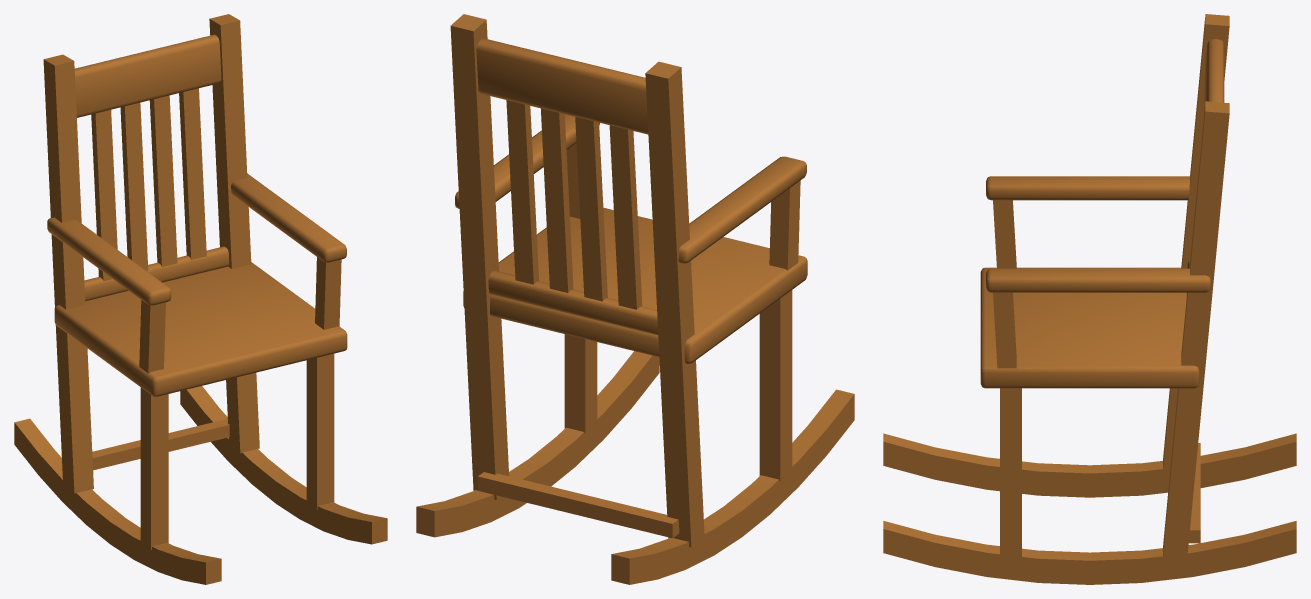
Rendered from RockingChairC03.glb.
The picture shows the model from 3 angles, left to right: view 1: azimuth 30°, elevation 25°; view 2: azimuth 150°, elevation 25°; view 3: azimuth 270°, elevation 25°; orthographic projection. The views are drawn at different scales.
Parts seen in each view (by area): view 1: Body_Wood; view 2: Body_Wood; view 3: Body_Wood.
Boxes of the visible parts, x1,y1,x2,y2 form: Body_Wood: (14,14,387,584); Body_Wood: (416,14,854,584); Body_Wood: (883,14,1296,584).
Bounding box in the file's own units: 2.04 × 4.31 × 3.4.
